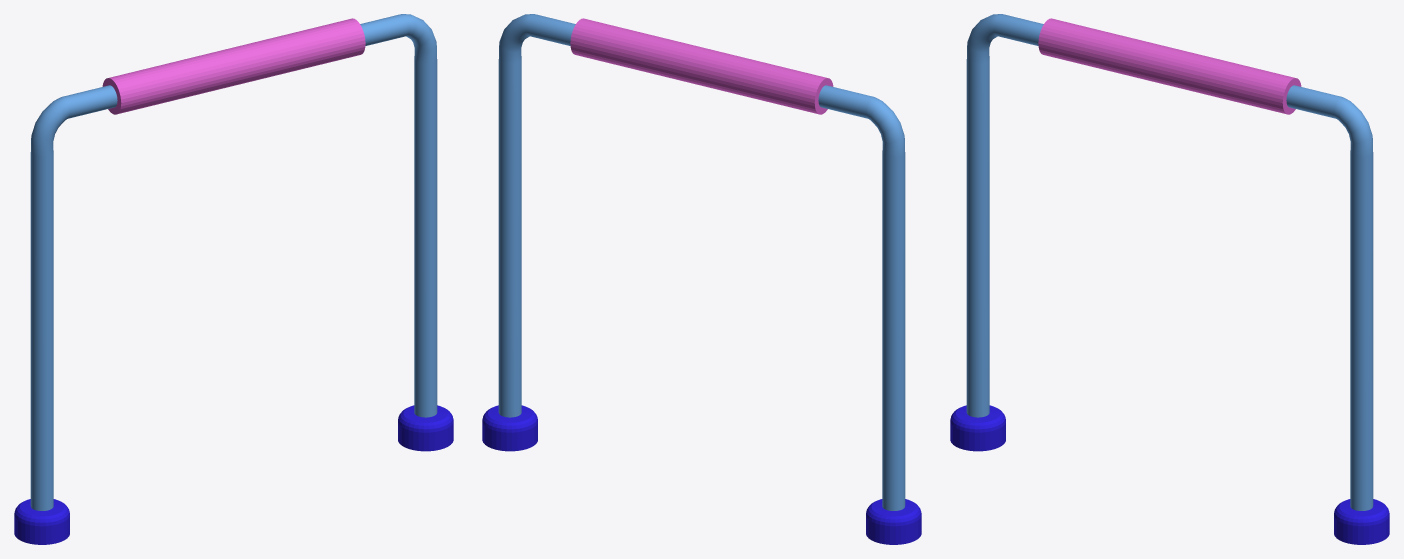
Rendered from vorota.fbx.
3 views of the same model, side by side, from view 1: azimuth 30°, elevation 25°; view 2: azimuth 150°, elevation 25°; view 3: azimuth 330°, elevation 25° (orthographic).
Visible parts, largest first — view 1: Cylinder.002, Cylinder.001, Cylinder; view 2: Cylinder.002, Cylinder.001, Cylinder; view 3: Cylinder.002, Cylinder.001, Cylinder.
Boxes of the visible parts, <box> form: Cylinder.002: <box>30,14,437,510</box>; Cylinder.001: <box>102,18,365,114</box>; Cylinder: <box>14,405,453,544</box>; Cylinder.002: <box>498,14,905,510</box>; Cylinder.001: <box>570,18,833,114</box>; Cylinder: <box>482,405,921,544</box>; Cylinder.002: <box>966,14,1373,510</box>; Cylinder.001: <box>1038,18,1301,114</box>; Cylinder: <box>950,405,1389,544</box>.
Size of the model in its own units: 243 by 235 by 27.21.
